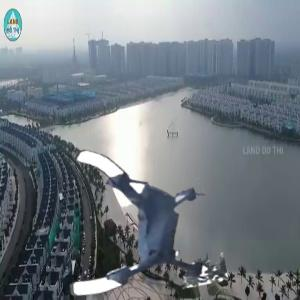drone: (57, 140, 216, 299)
